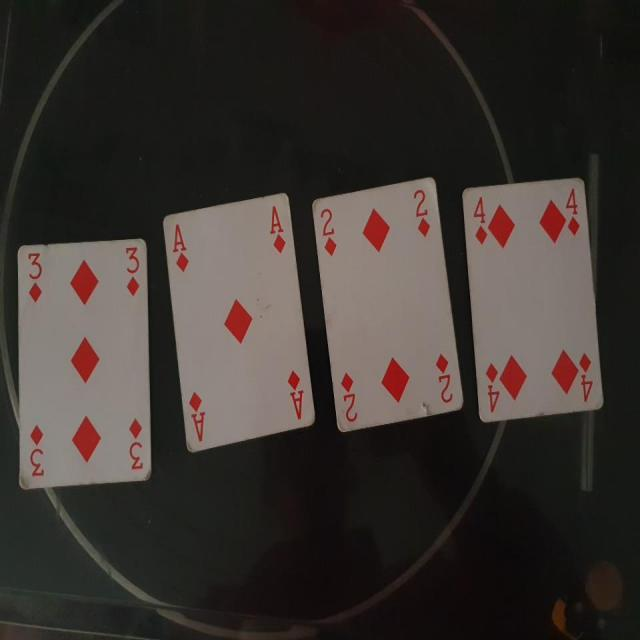2 Diamonds: (306, 170, 468, 437)
3 Diamonds: (10, 230, 155, 492)
4 Diamonds: (462, 176, 606, 427)
A Diamonds: (155, 186, 318, 452)
